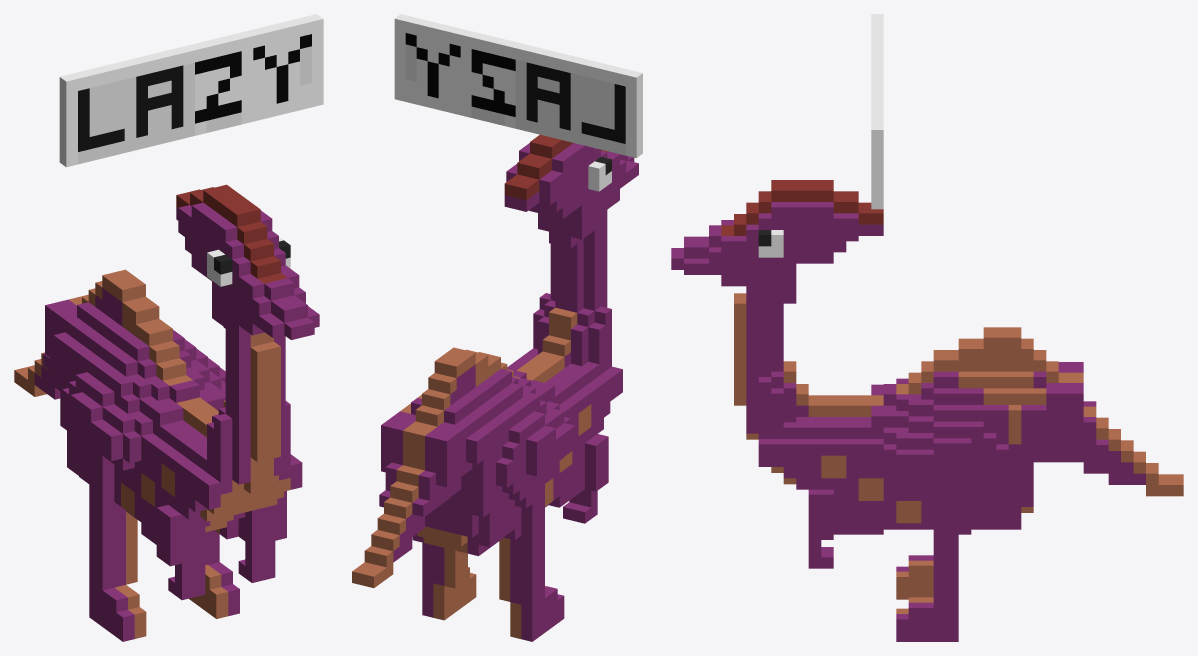
File: dino-q4-f.obj
3 views of the same model, side by side, from view 1: azimuth 30°, elevation 25°; view 2: azimuth 150°, elevation 25°; view 3: azimuth 270°, elevation 25° (orthographic). The views are drawn at different scales.
Parts seen in each view (by area): view 1: Matrix_41; view 2: Matrix_41; view 3: Matrix_41.
Boxes of the visible parts, x1=… form: Matrix_41: x1=14, y1=14, x2=323, y2=641; Matrix_41: x1=352, y1=14, x2=642, y2=641; Matrix_41: x1=671, y1=14, x2=1183, y2=641.
Bounding box in the file's own units: 22 × 48 × 41.
Materials: 1 (1 with a texture image).
